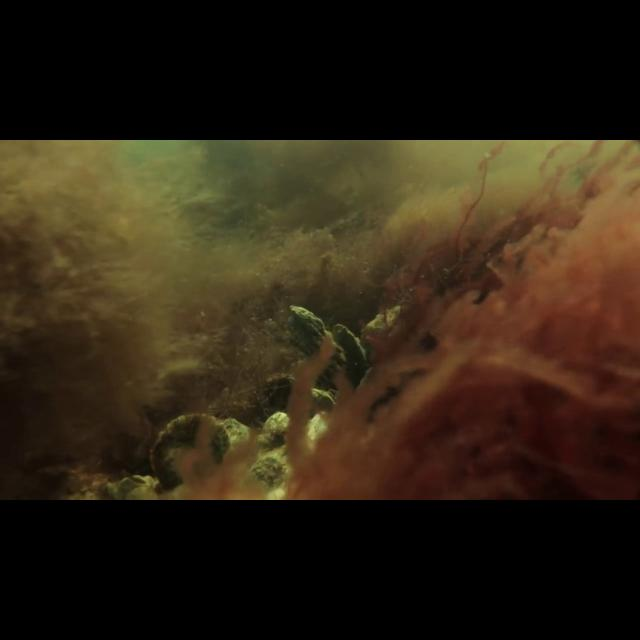Oyster-Closed: (147, 410, 236, 491), (277, 296, 350, 388), (327, 317, 373, 375), (359, 301, 401, 352)
